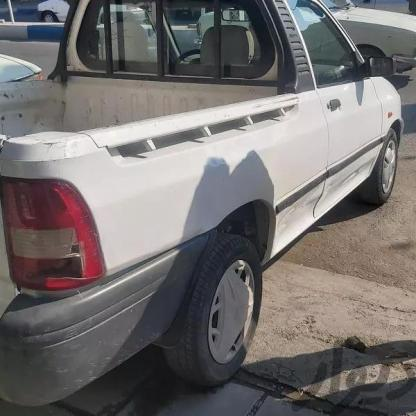Car: (0, 0, 416, 416), (306, 7, 416, 76)
